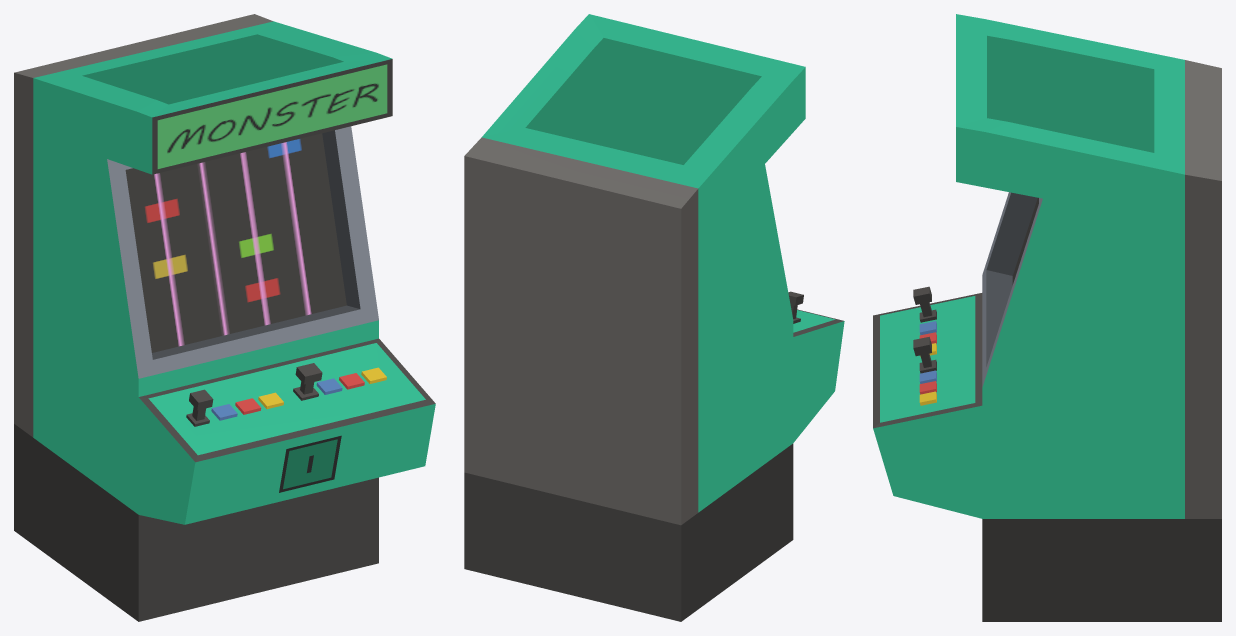
The model's file is Arcade2.glb.
3 renders of one model, left to right at view 1: azimuth 30°, elevation 25°; view 2: azimuth 150°, elevation 25°; view 3: azimuth 270°, elevation 25°, orthographic. The views are drawn at different scales.
Visible parts, largest first — view 1: SI_Prop_ArcadeMachine_02; view 2: SI_Prop_ArcadeMachine_02; view 3: SI_Prop_ArcadeMachine_02.
Boxes of the visible parts, x1,y1,x2,y2 form: SI_Prop_ArcadeMachine_02: (14, 14, 435, 621); SI_Prop_ArcadeMachine_02: (464, 14, 844, 621); SI_Prop_ArcadeMachine_02: (873, 14, 1221, 621).
Size of the model in its own units: 0.0128 by 0.0262 by 0.0168.
Materials: 1 (1 with a texture image).
